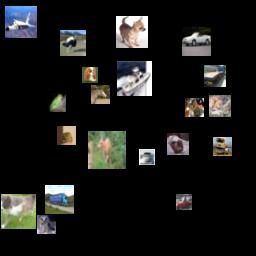airplane: (5, 6, 37, 38)
automobile: (182, 27, 211, 56), (176, 194, 192, 210)
bird: (60, 30, 86, 56), (37, 215, 56, 234)
cat: (1, 194, 36, 229), (167, 133, 189, 155), (185, 98, 204, 117)
deer: (88, 131, 126, 169), (209, 95, 231, 117)
dog: (116, 16, 148, 48), (82, 67, 98, 83)
frog: (57, 126, 76, 145), (47, 93, 66, 112)
ship: (117, 61, 152, 96), (139, 149, 155, 165)
truck: (45, 185, 74, 214), (204, 65, 226, 87), (213, 137, 232, 156)
